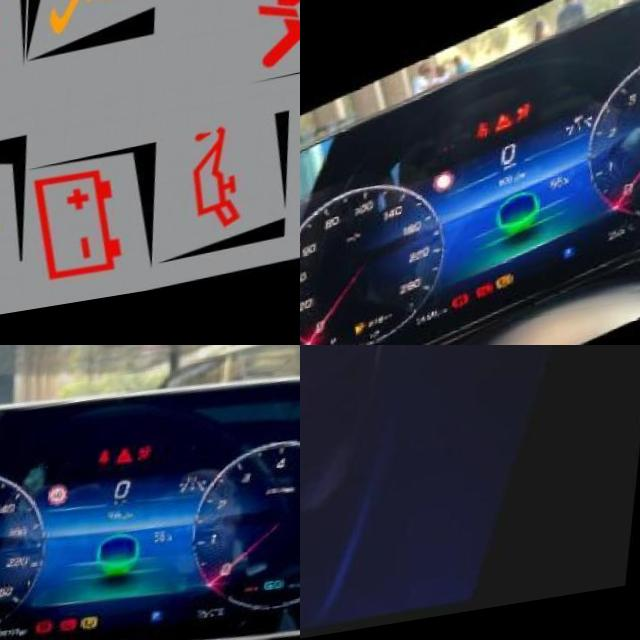Seat Belt: (475, 133, 493, 158), (97, 457, 114, 475)
